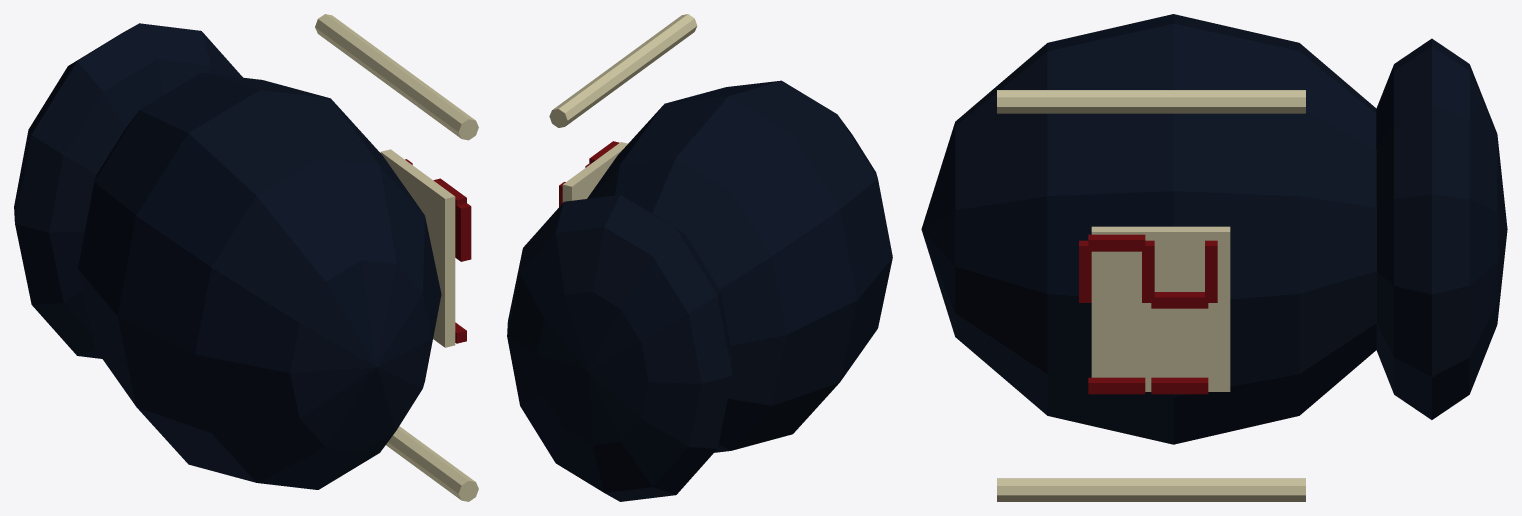
Rendered from Resident3Body.obj.
3 renders of one model, left to right at view 1: azimuth 30°, elevation 25°; view 2: azimuth 150°, elevation 25°; view 3: azimuth 270°, elevation 25°, orthographic. The views are drawn at different scales.
Visible parts, largest first — view 1: Resident3Body; view 2: Resident3Body; view 3: Resident3Body.
Part boxes in pixels (x1,y1,x2,y2): Resident3Body: (14,14,478,501); Resident3Body: (507,14,892,501); Resident3Body: (921,14,1507,501).
Size of the model in its own units: 61 by 72 by 93.
